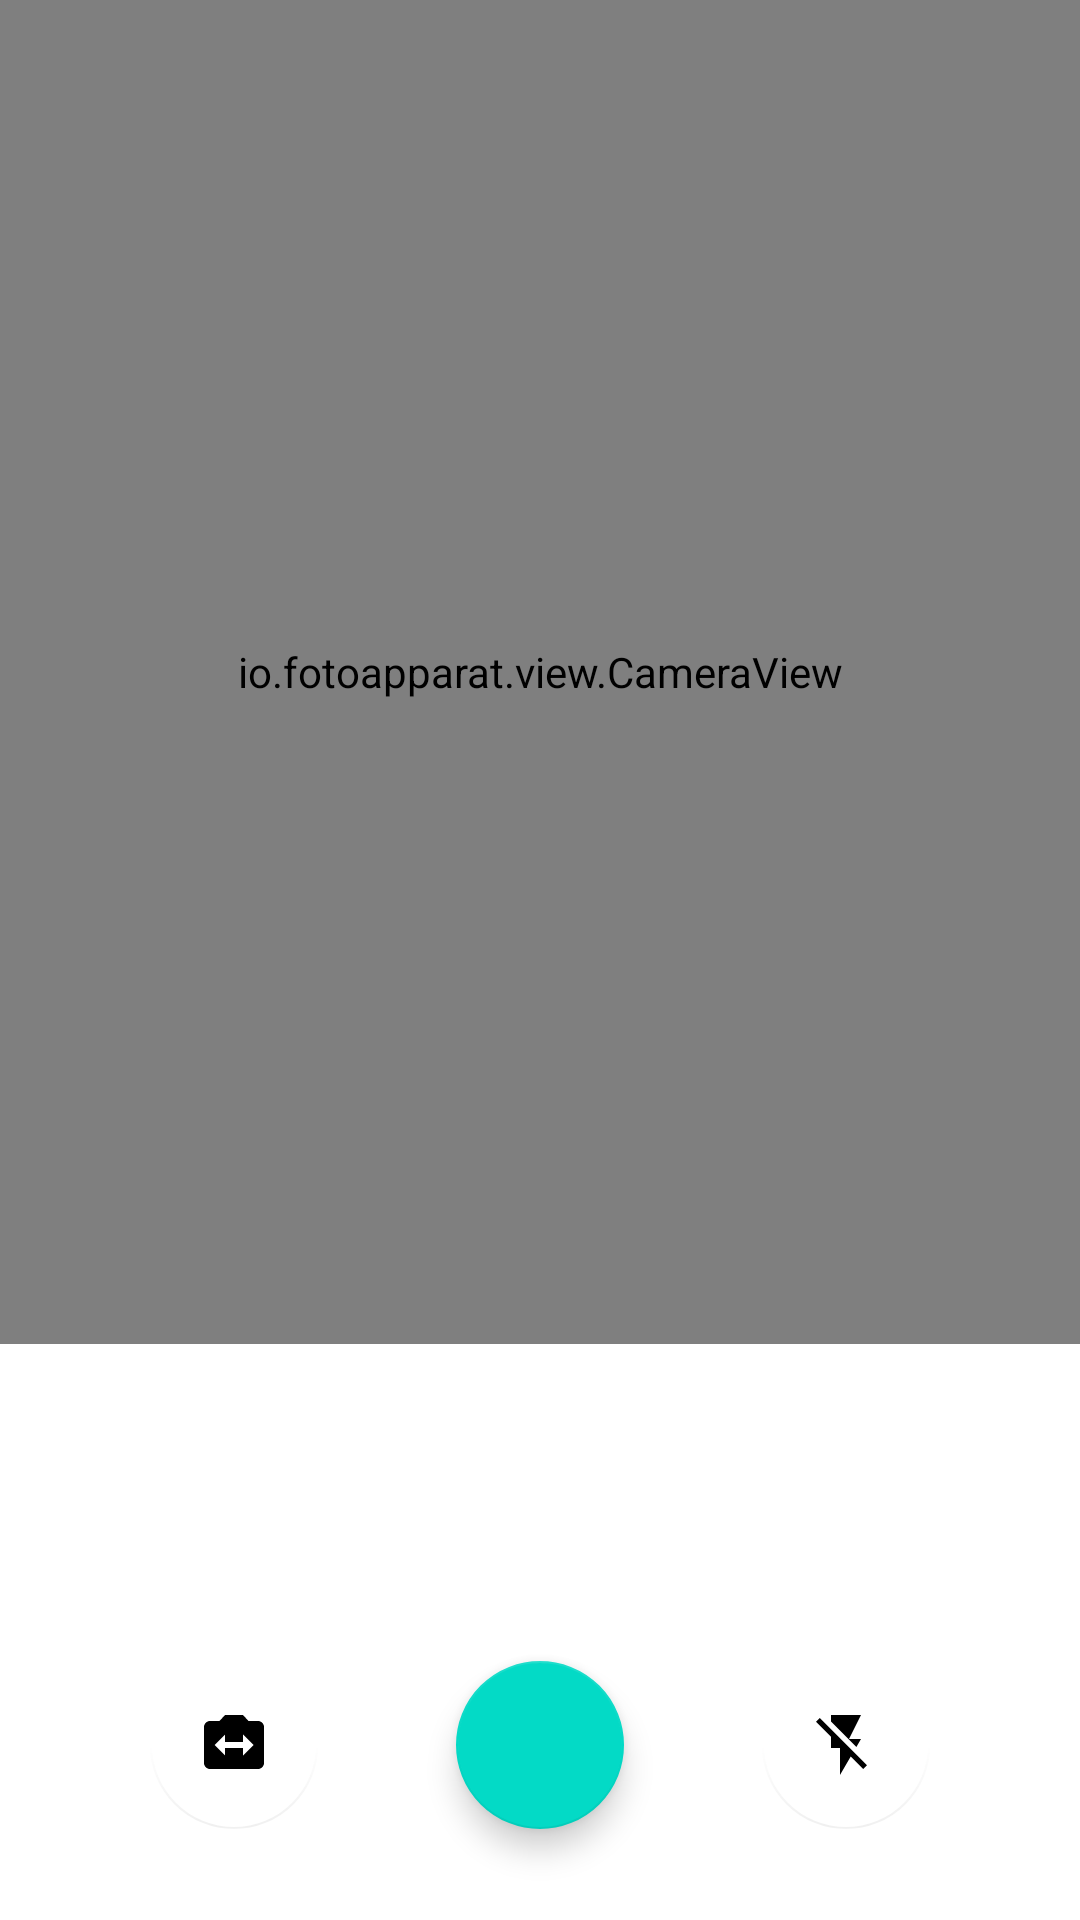

Icons on this 1080px×1920px Android screen, each with its box as (x1, y1, x2, y2):
flash off: (816, 1715, 867, 1775)
switch camera: (204, 1715, 264, 1769)
